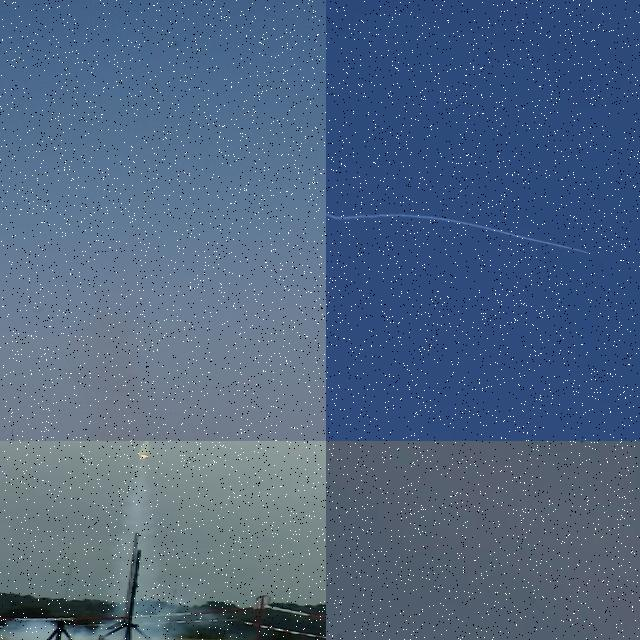Rocket: (137, 441, 154, 456), (586, 252, 588, 254)
